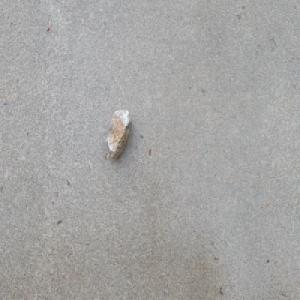Rock: (104, 108, 131, 162)
